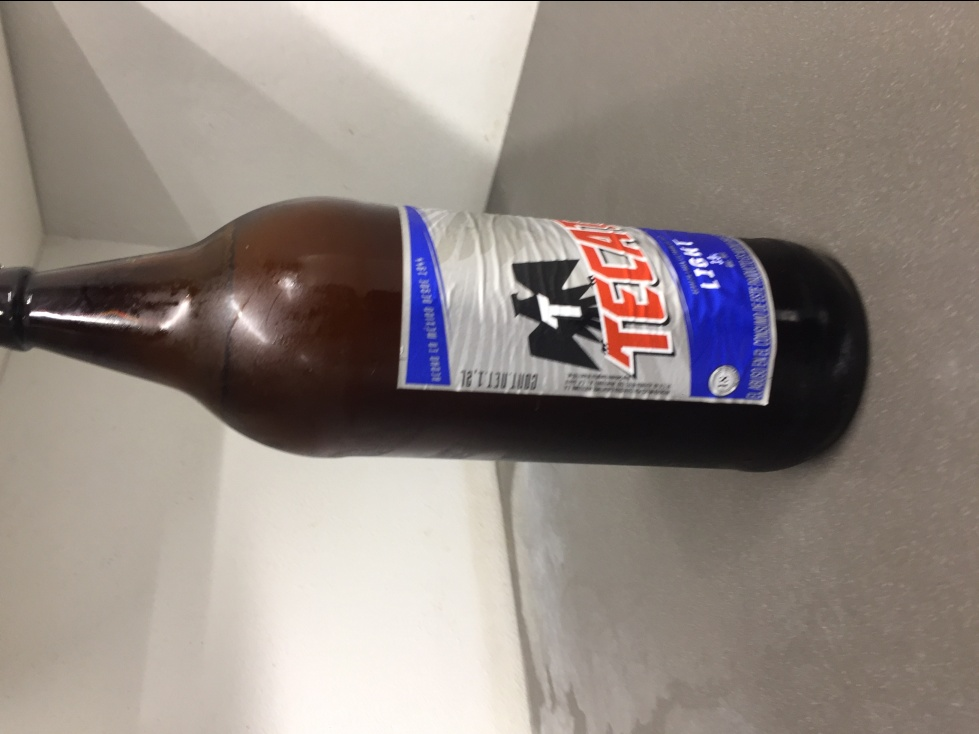tecateC: (1, 194, 872, 468)
